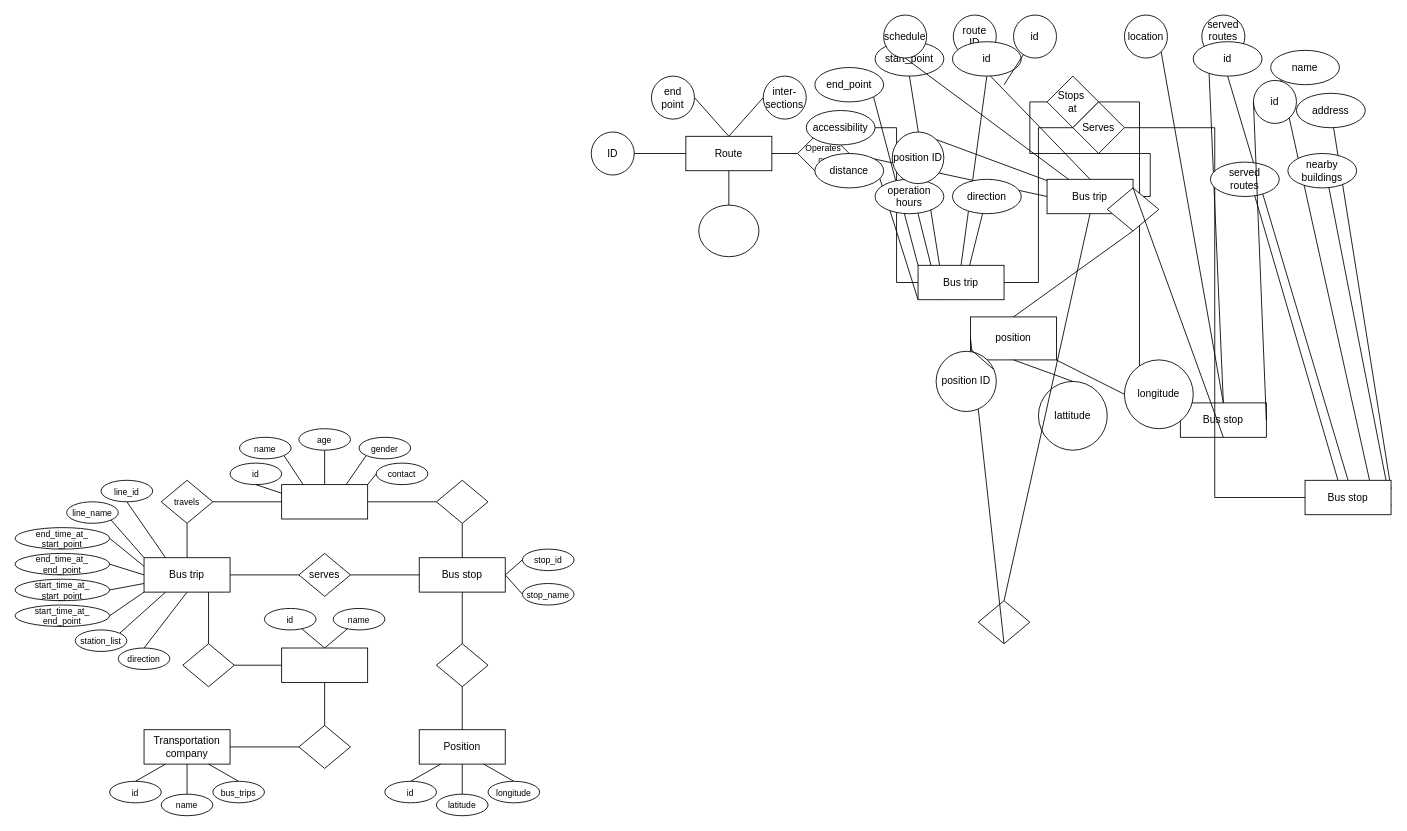
This 1407x831 diagram has some shape labels left out. Here are the shapes that lost their labels. From the top down, the centre of each, then its label:
At point (1132, 209): "located".
At point (728, 230): "start end".
At point (324, 501): "Passenger".
At point (462, 501): "board/ drop".
At point (1003, 622): "current location".
At point (208, 665): "follows".
At point (324, 664): "Bus line".
At point (462, 665): "locates at".
At point (324, 746): "operates".
